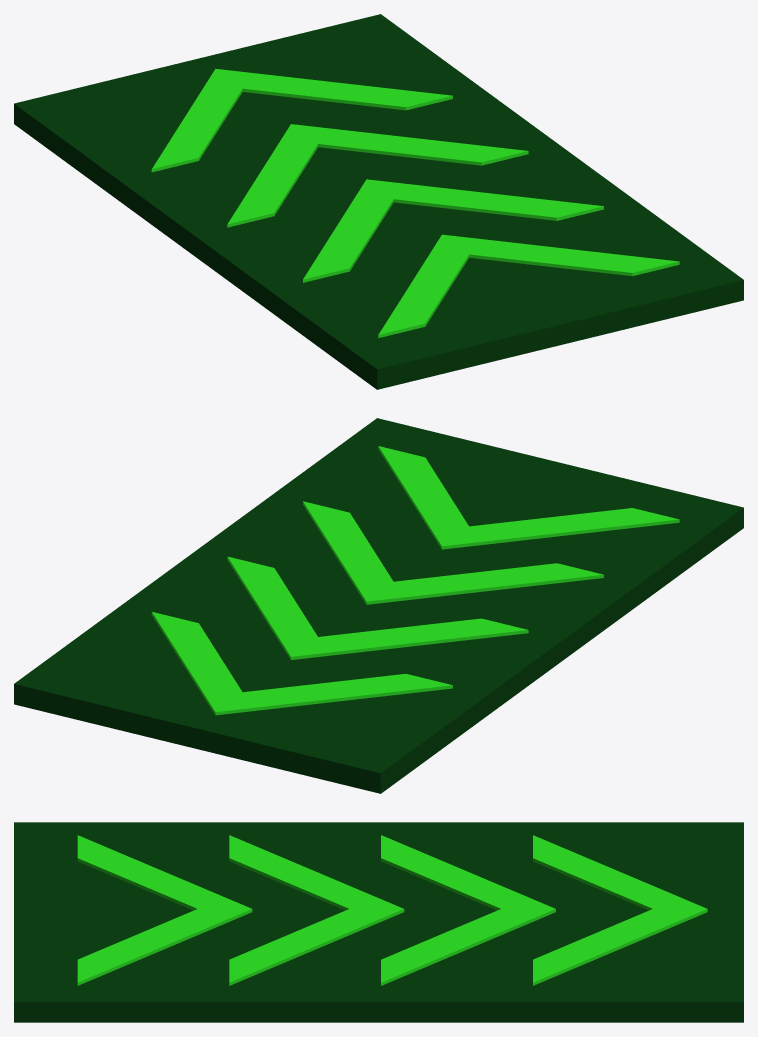
File: speedup.fbx
3 views of the same model, one above another, from view 1: azimuth 30°, elevation 25°; view 2: azimuth 150°, elevation 25°; view 3: azimuth 270°, elevation 25° (orthographic).
Visible parts, largest first — view 1: Cube, Cube.004; view 2: Cube, Cube.004; view 3: Cube, Cube.004.
Part boxes in pixels (<box>): Cube: <box>14,14,743,389</box>; Cube.004: <box>151,68,679,337</box>; Cube: <box>14,418,743,793</box>; Cube.004: <box>151,446,679,715</box>; Cube: <box>14,822,743,1022</box>; Cube.004: <box>77,835,707,985</box>.
Size of the model in its own units: 1122 by 69.56 by 1924.
